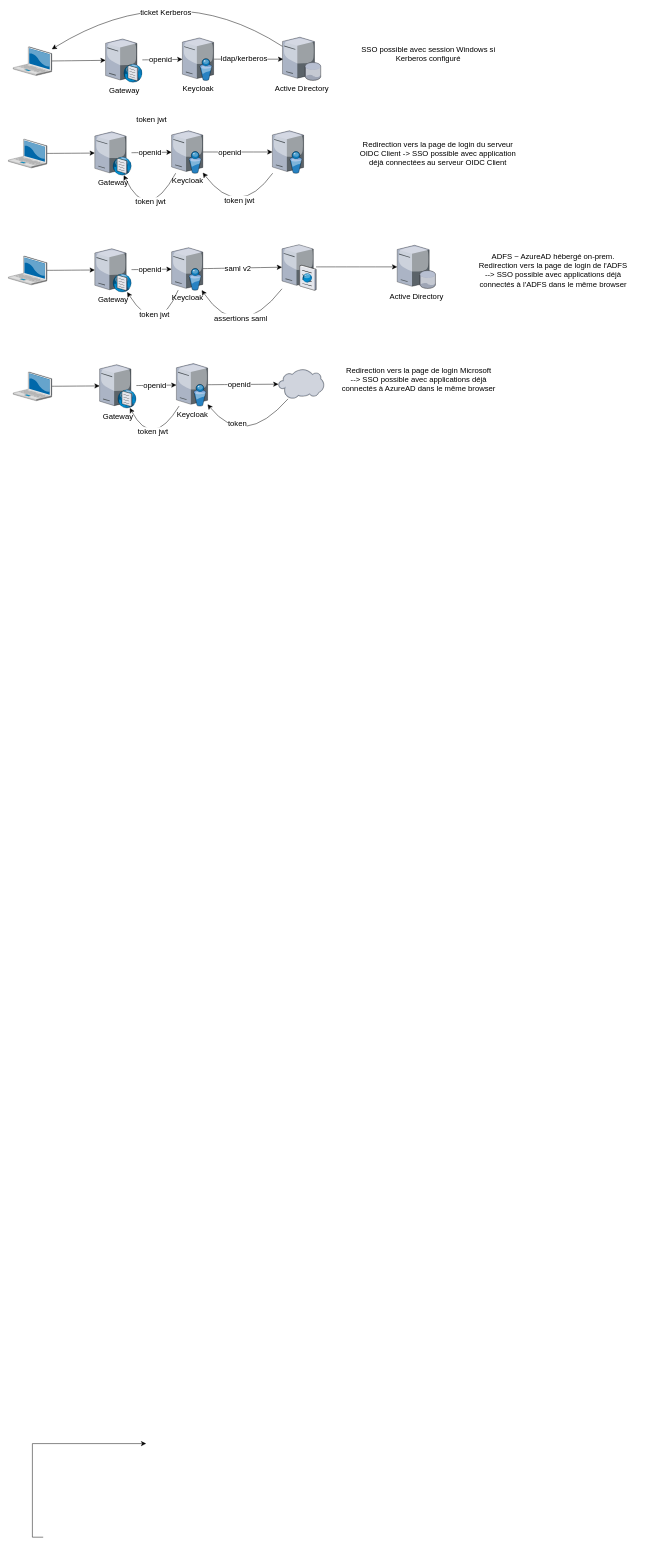
Image size: 645x1551. Some labels were removed from this diagram. The centre of each missing label's shape, as x and y in pixels:
"Active Directory Federation Service (ADFS)" goes at (x=299, y=266).
"AzureAD" goes at (x=301, y=384).
"Serveur OIDC Client" goes at (x=287, y=152).
